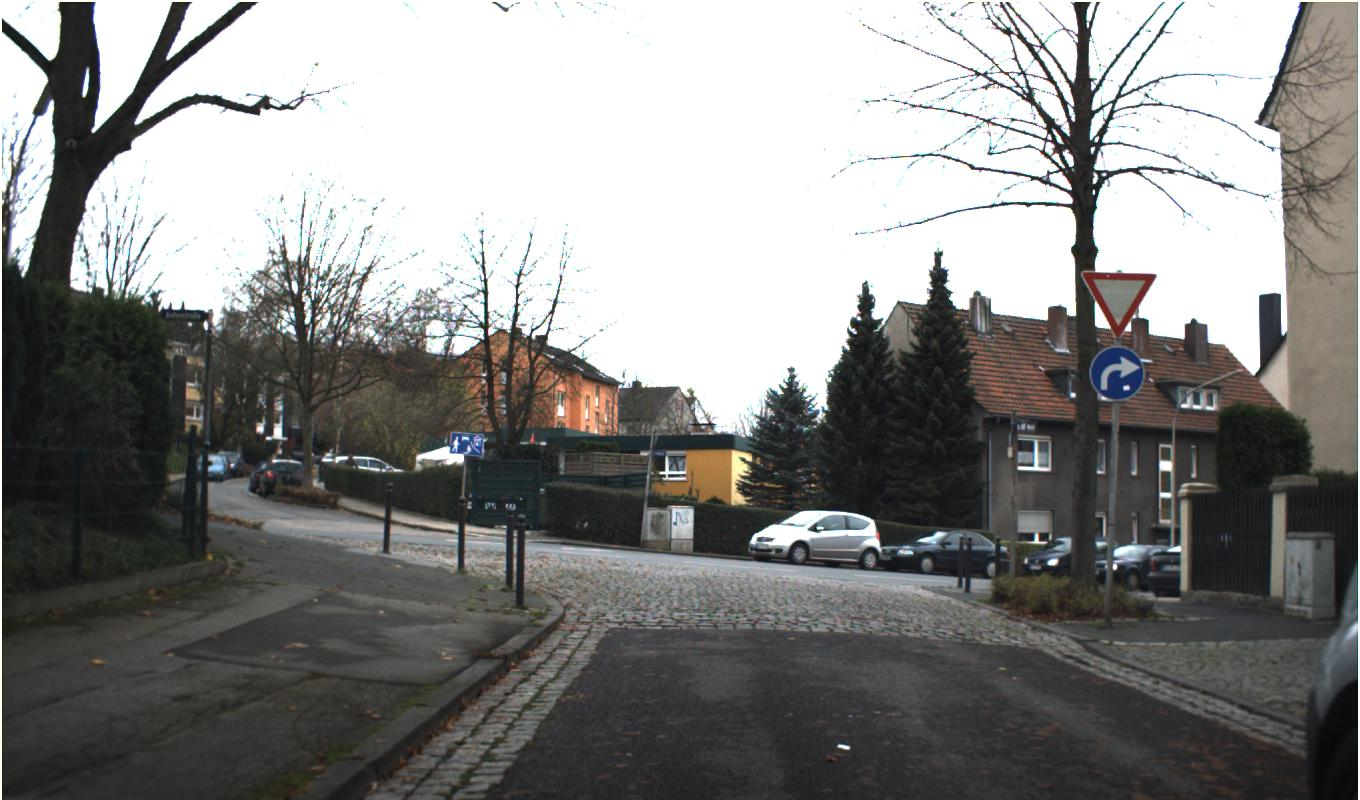mandatory: (1089, 345, 1144, 401)
sign: (1080, 270, 1155, 340)
